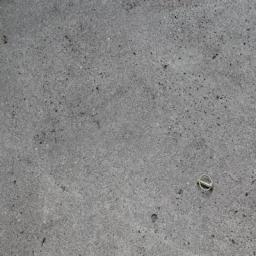FOD: (196, 171, 216, 197)
